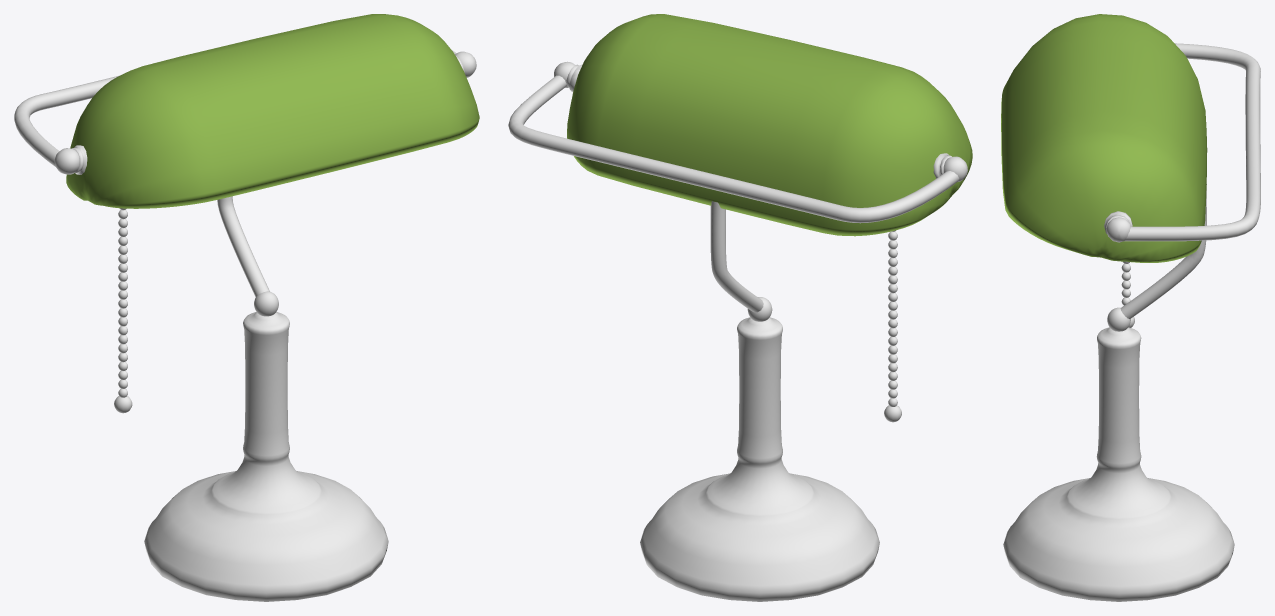
The model's file is DeskLamp.fbx.
The picture shows the model from 3 angles, left to right: view 1: azimuth 30°, elevation 25°; view 2: azimuth 150°, elevation 25°; view 3: azimuth 270°, elevation 25°; orthographic projection. The views are drawn at different scales.
Parts seen in each view (by area): view 1: Lamp; view 2: Lamp; view 3: Lamp.
Boxes of the visible parts, bbox=[...] form: Lamp: bbox=[14, 14, 479, 601]; Lamp: bbox=[508, 14, 972, 601]; Lamp: bbox=[1001, 14, 1260, 601].
Bounding box in the file's own units: 372 × 445 × 212.
